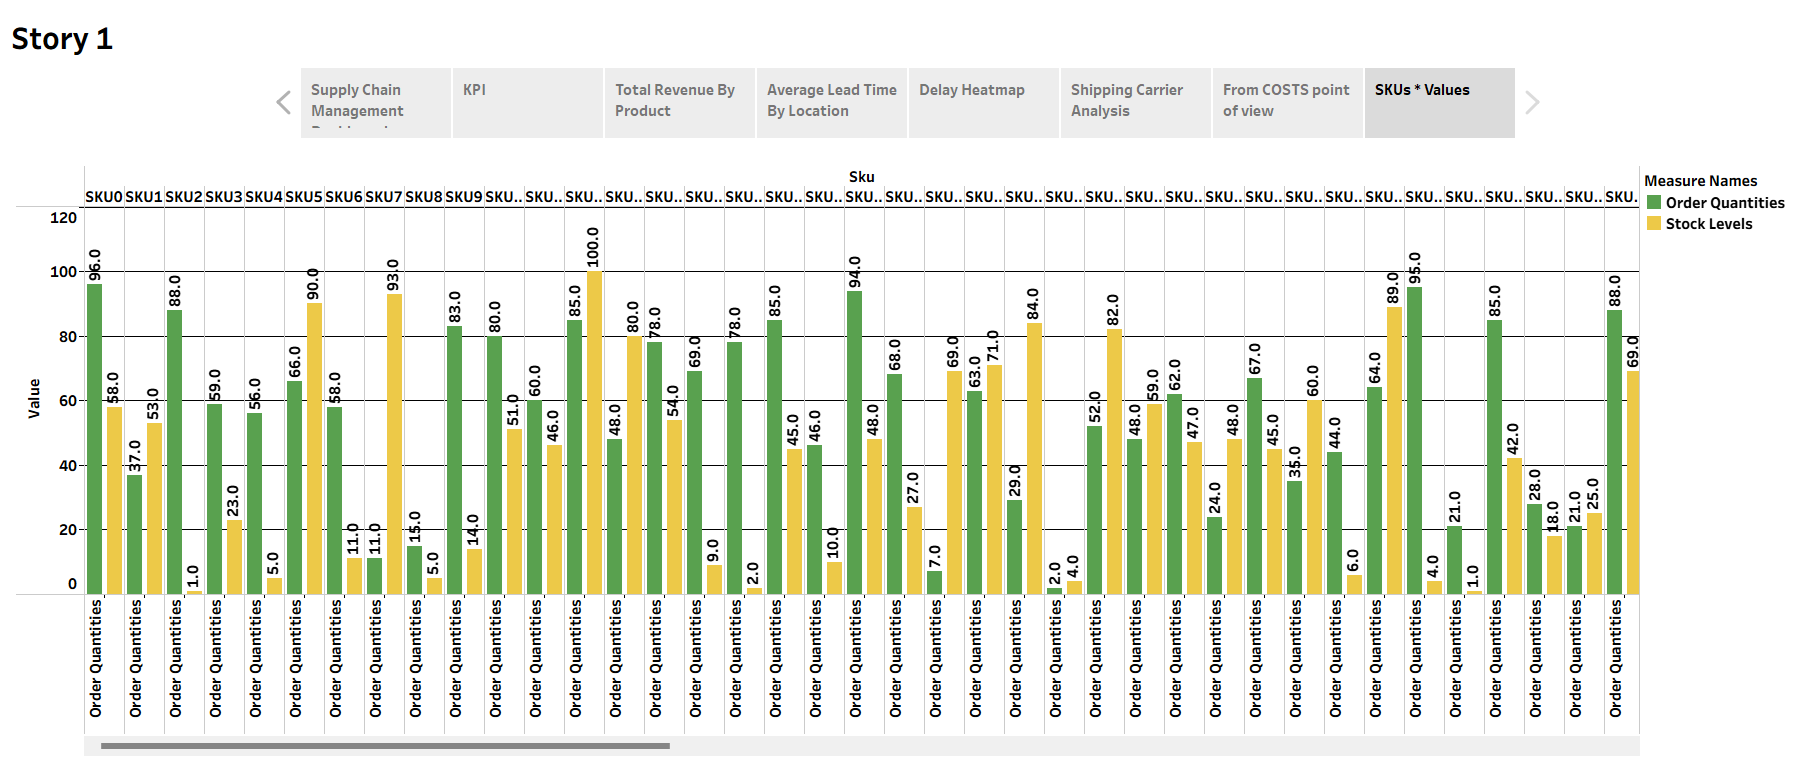

What the dashboard file says about the page in this screenshot:
{"tool":"tableau","page":{"name":"Dashboard 4","canvas":[1000,1000],"units":"permille","ordinal":3},"visuals":[{"type":"worksheet","title":"Sheet 7","mark":"Automatic","rows":["costs"],"cols":["inspection_results","product_type","customer_demographics","location"],"box":[4.9,11,830,978.1]},{"type":"legend","title":"Sheet 7","param":"[federated.15tfg9s0zh5uvz1e8yaf50bd6k9i].[none:location:nk]","box":[834.9,11,160.3,152.1]}]}

Visuals, with their boxes on the dashboard's canvas, which has no fixed pixel size, in thousandths of its width and height (x1, y1, x2, y2). These are canvas units, not pixel positions in the 1795x774 screenshot, which may show the page scaled, cropped or inside an application window:
"Sheet 7" worksheet: (left=5, top=11, right=835, bottom=989)
"Sheet 7" legend: (left=835, top=11, right=995, bottom=163)
